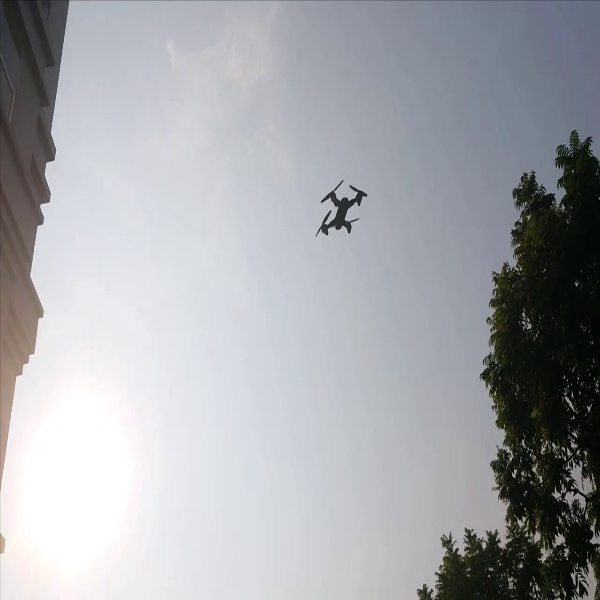drone: (307, 167, 377, 250)
